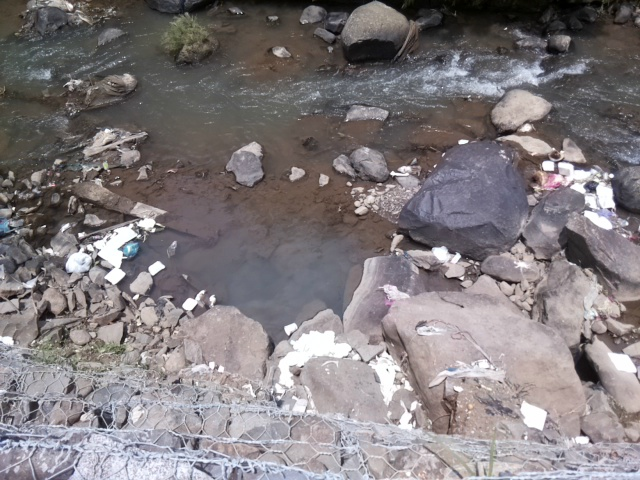Sampah_Plastik: (273, 325, 353, 392), (427, 355, 500, 391), (362, 349, 409, 401), (381, 281, 408, 309), (63, 249, 92, 275), (432, 244, 451, 263), (122, 242, 139, 258), (584, 179, 600, 193)
Sampah_Styrofoam: (93, 225, 137, 265), (516, 399, 545, 431), (607, 348, 640, 374), (572, 166, 600, 192), (585, 209, 615, 231), (594, 184, 619, 207), (103, 266, 127, 287), (146, 257, 166, 277), (182, 296, 199, 313), (556, 162, 574, 176), (136, 219, 155, 232), (541, 160, 553, 171)
